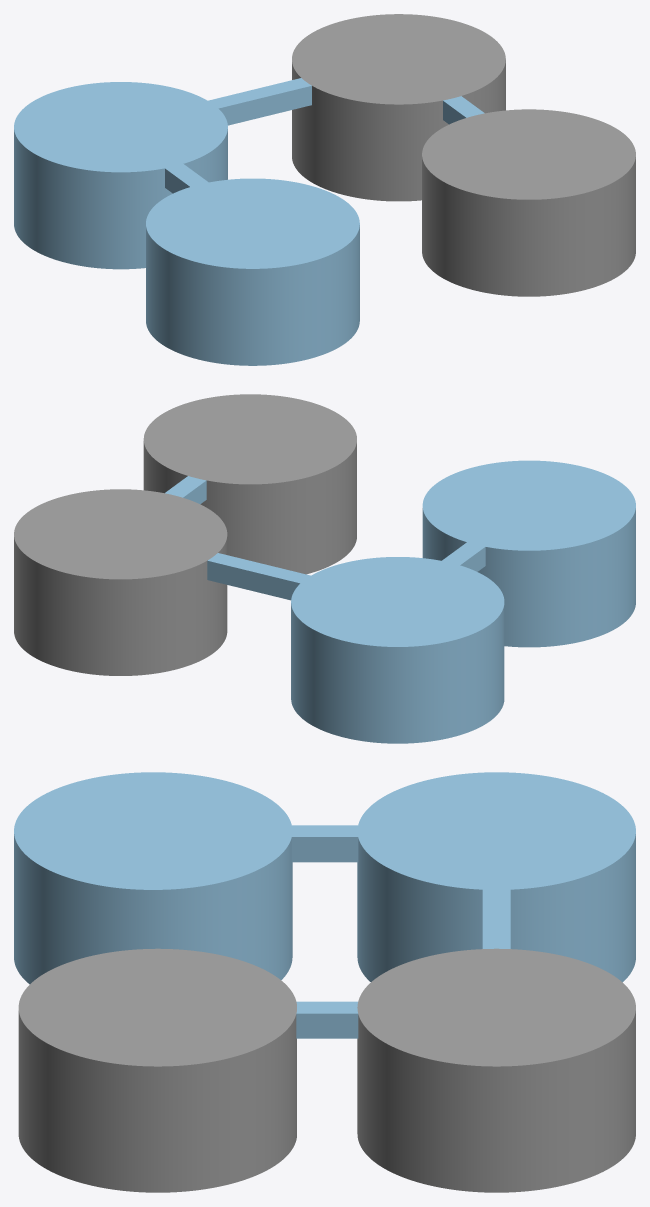
3 renders of one model, top to bottom at view 1: azimuth 30°, elevation 25°; view 2: azimuth 150°, elevation 25°; view 3: azimuth 270°, elevation 25°, orthographic. The views are drawn at different scales.
Visible parts, largest first — view 1: 5d23769e4c1c08175af7d3d1 (×7); view 2: 5d23769e4c1c08175af7d3d1 (×7); view 3: 5d23769e4c1c08175af7d3d1 (×7).
Boxes of the visible parts, x1,y1,x2,y2 form: 5d23769e4c1c08175af7d3d1 (×7): (14, 14, 635, 365); 5d23769e4c1c08175af7d3d1 (×7): (14, 394, 635, 743); 5d23769e4c1c08175af7d3d1 (×7): (14, 772, 635, 1192).
Size of the model in its own units: 75 by 67 by 15.
